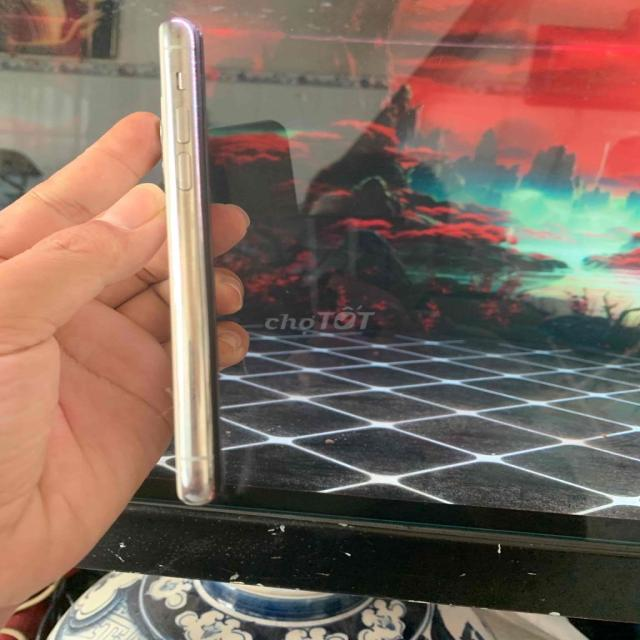scratch: (190, 28, 212, 246)
